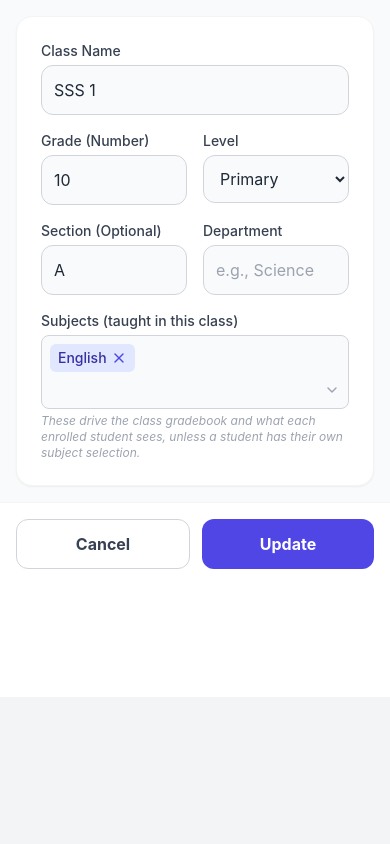
Edit Class → subject add/remove prompts › remove asks for confirmation, says past results are kept, and Cancel changes nothing
Click the 1st button: (119, 358) [111,350,127,366]
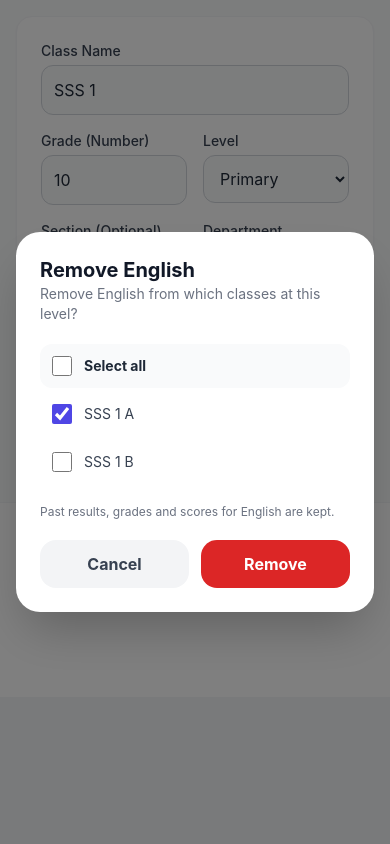
Check: the heading "Remove English" is shown, box [40,258,195,282]
Check: the text "Past results, grades and scores for English are kept." is shown, box [40,504,350,520]
Click the button "Cancel": (114, 564) [40,540,189,588]
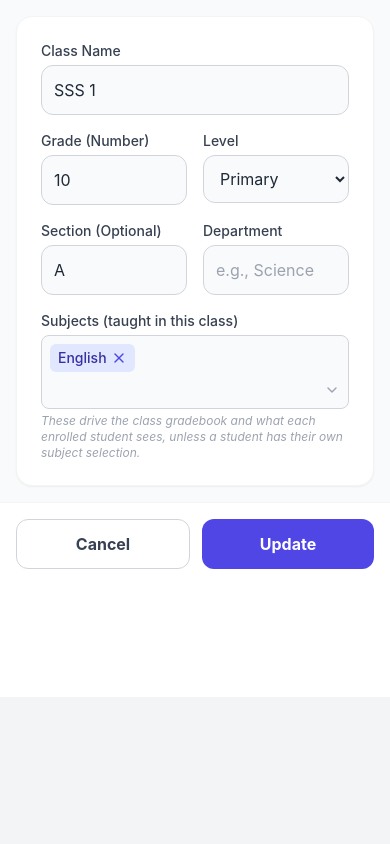
Check: the text "English" is shown, box [50,344,135,372]
Check: the dialog is gone
Click the 1st button: (119, 358) [111,350,127,366]
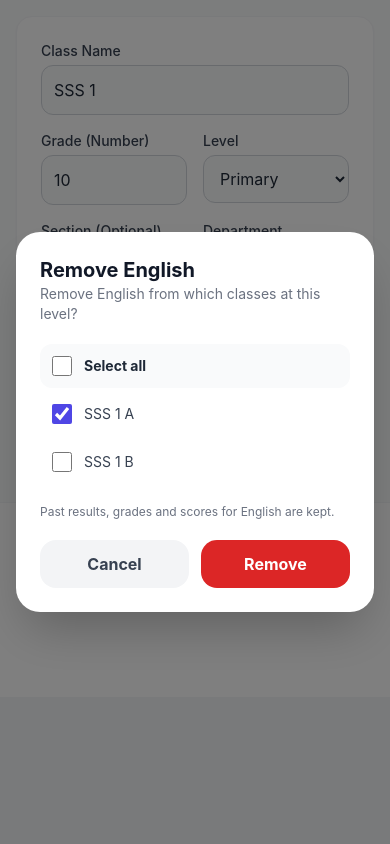
Click the button "Remove": (276, 564) [201,540,350,588]
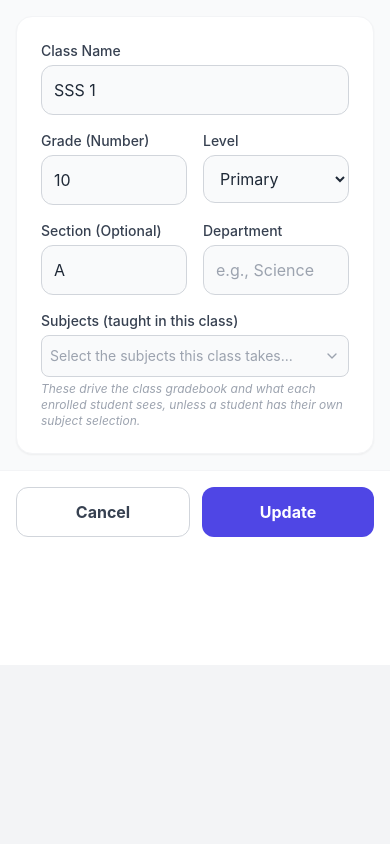
Check: the text "English" is gone
